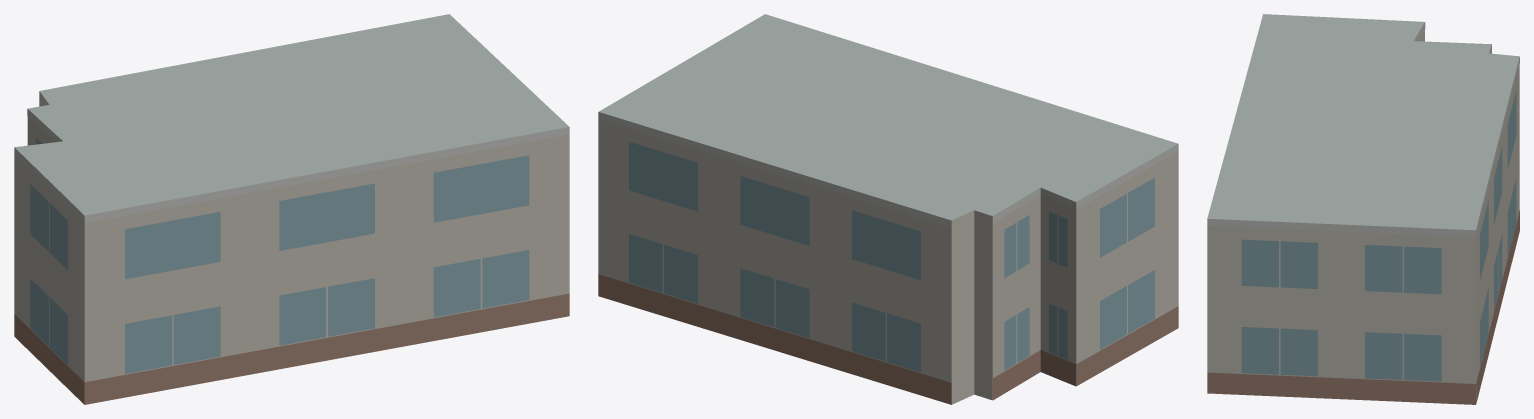
The model's file is survey-upis-32947597.glb.
3 renders of one model, left to right at view 1: azimuth 30°, elevation 25°; view 2: azimuth 150°, elevation 25°; view 3: azimuth 270°, elevation 25°, orthographic. The views are drawn at different scales.
Visible parts, largest first — view 1: survey-upis-32947597.tmp; view 2: survey-upis-32947597.tmp; view 3: survey-upis-32947597.tmp.
Boxes of the visible parts, box(x1,y1,x2,y2) form: survey-upis-32947597.tmp: box(14, 14, 569, 404); survey-upis-32947597.tmp: box(598, 14, 1178, 404); survey-upis-32947597.tmp: box(1207, 14, 1519, 404).
Bounding box in the file's own units: 16.21 × 6.1 × 9.91.
